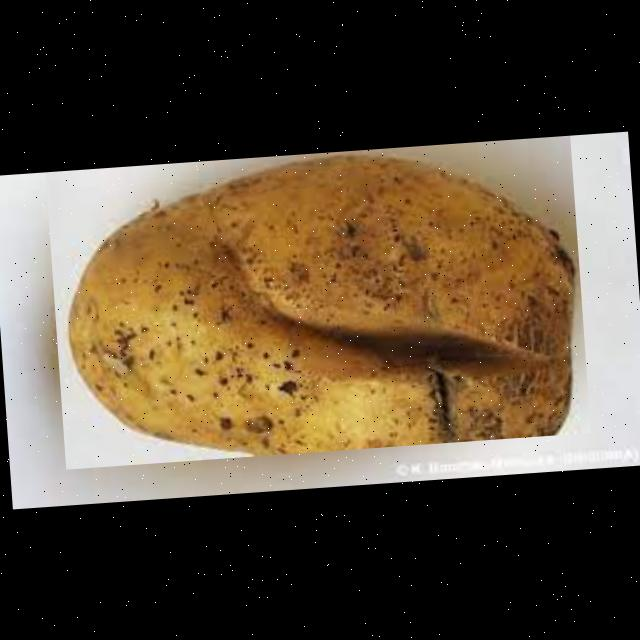Damaged potato: (44, 135, 590, 469)
